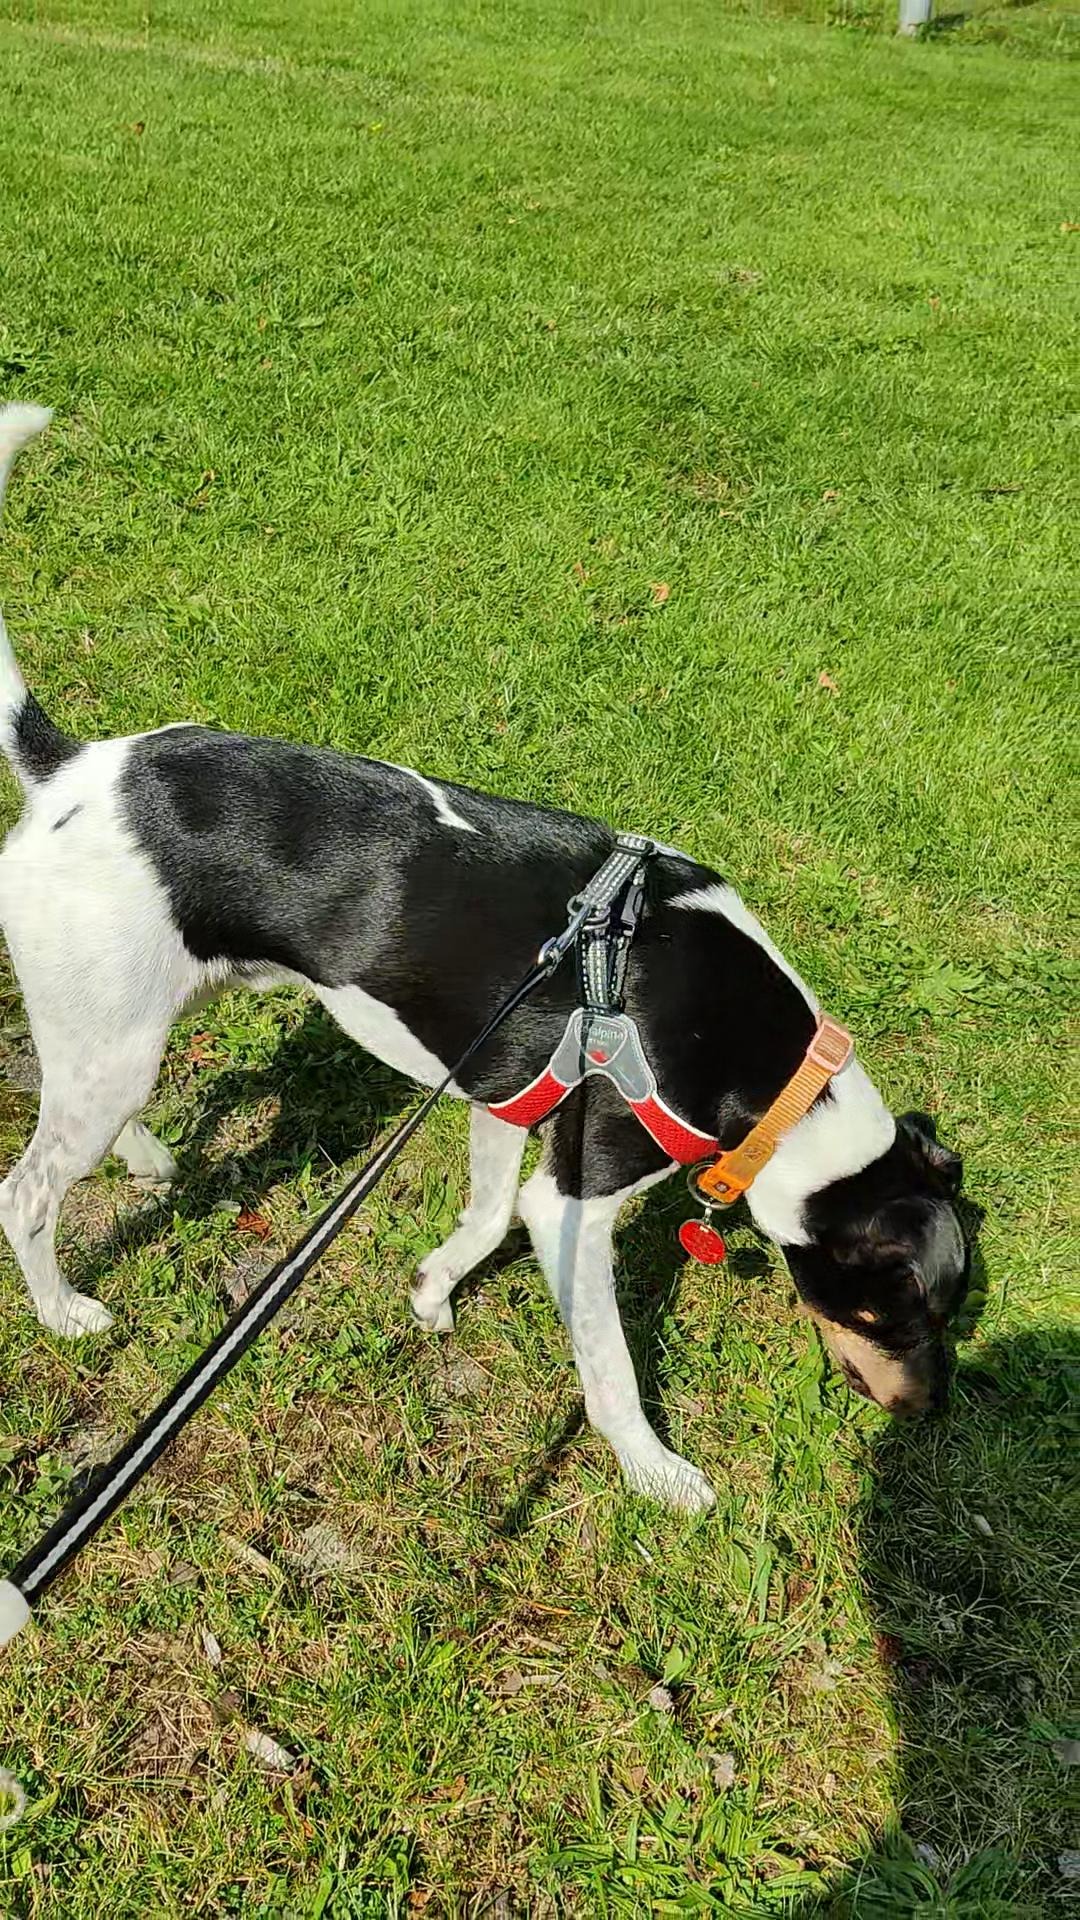Dog: (0, 389, 1025, 1526)
